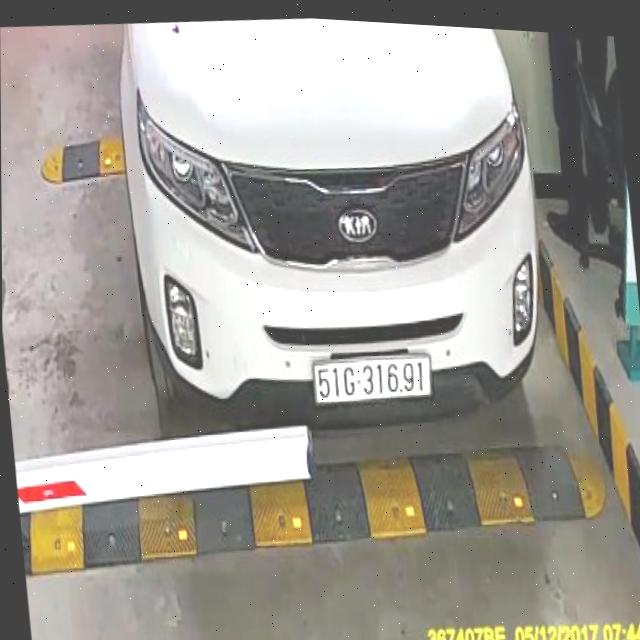car: (105, 6, 561, 482)
plate: (305, 343, 438, 414)
